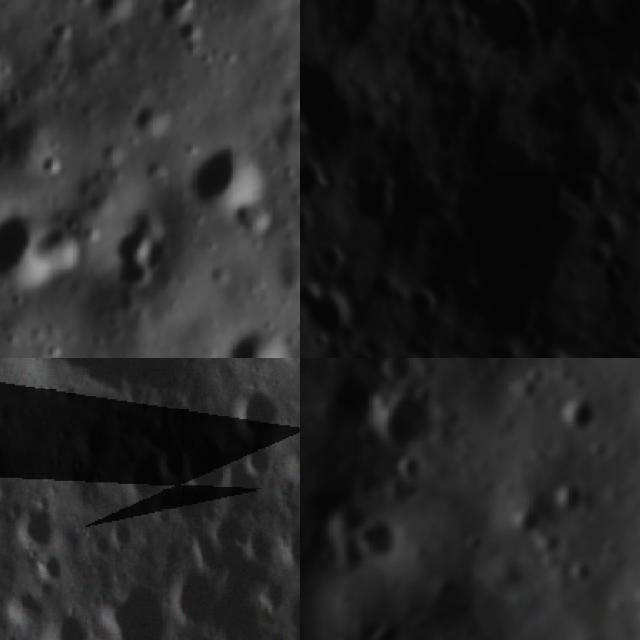crater: (182, 136, 271, 228), (356, 375, 452, 460), (0, 208, 81, 297), (6, 358, 195, 391), (94, 569, 179, 640), (110, 206, 180, 292), (444, 0, 542, 59), (346, 168, 408, 239), (159, 558, 224, 622), (342, 514, 407, 577), (226, 383, 288, 440), (300, 277, 353, 343), (550, 386, 607, 446), (182, 431, 232, 495), (214, 321, 300, 358), (119, 444, 168, 505), (8, 494, 57, 549), (236, 435, 282, 488), (132, 91, 178, 139), (544, 475, 590, 522), (366, 358, 423, 395), (37, 610, 106, 640), (589, 208, 630, 257), (351, 611, 420, 640), (246, 517, 282, 572), (32, 542, 74, 588), (300, 156, 329, 204), (401, 286, 439, 321), (316, 244, 346, 286), (176, 12, 209, 50), (616, 178, 640, 229), (278, 518, 300, 573), (614, 76, 640, 122), (300, 208, 318, 247)
